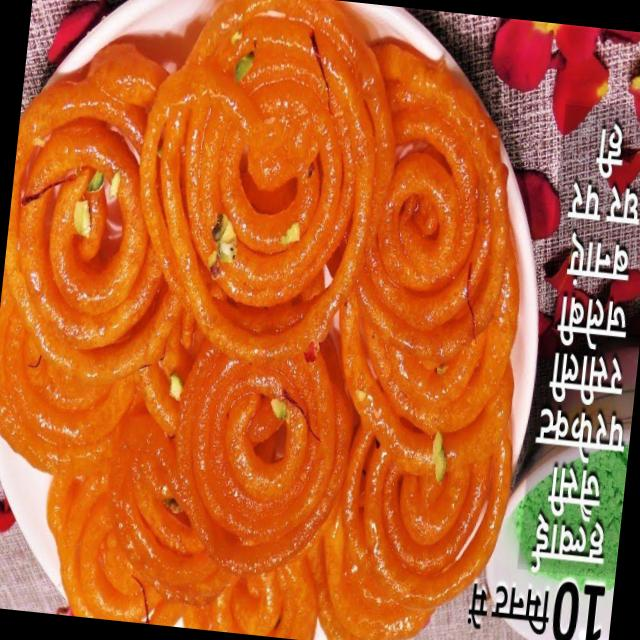jalebi: (0, 0, 554, 640)
